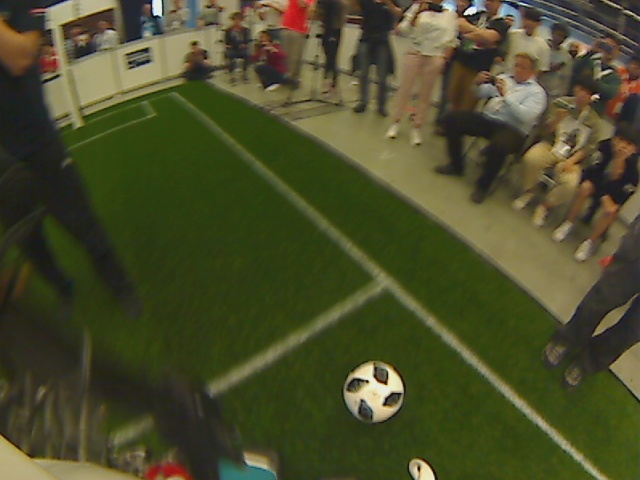ball: (339, 357, 406, 427)
